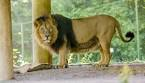lion: (26, 12, 136, 75)
